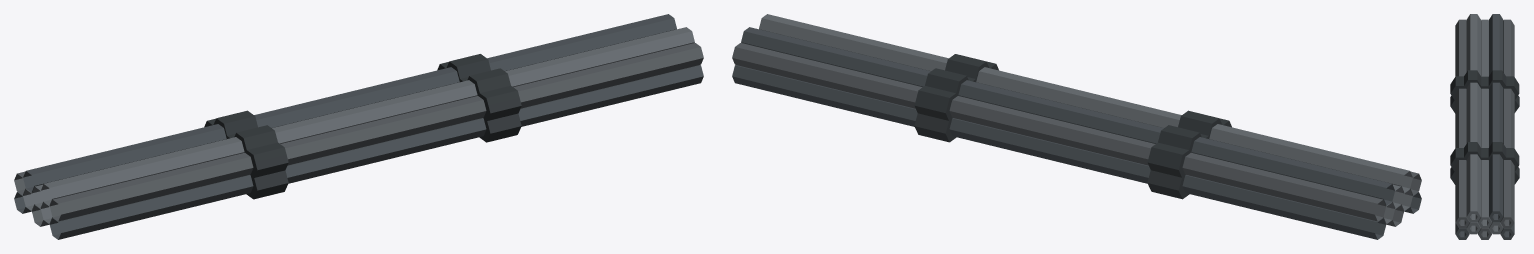
Rendered from TP_Sci-fi013.fbx.
The picture shows the model from 3 angles, left to right: view 1: azimuth 30°, elevation 25°; view 2: azimuth 150°, elevation 25°; view 3: azimuth 270°, elevation 25°; orthographic projection. The views are drawn at different scales.
Parts seen in each view (by area): view 1: TP_Sci_fi013; view 2: TP_Sci_fi013; view 3: TP_Sci_fi013.
Part boxes in pixels (x1,y1,x2,y2): TP_Sci_fi013: [14, 14, 703, 239]; TP_Sci_fi013: [732, 14, 1421, 239]; TP_Sci_fi013: [1450, 14, 1519, 239].
Size of the model in its own units: 219 by 17.6 by 32.32.
1 material, 1 textured.
